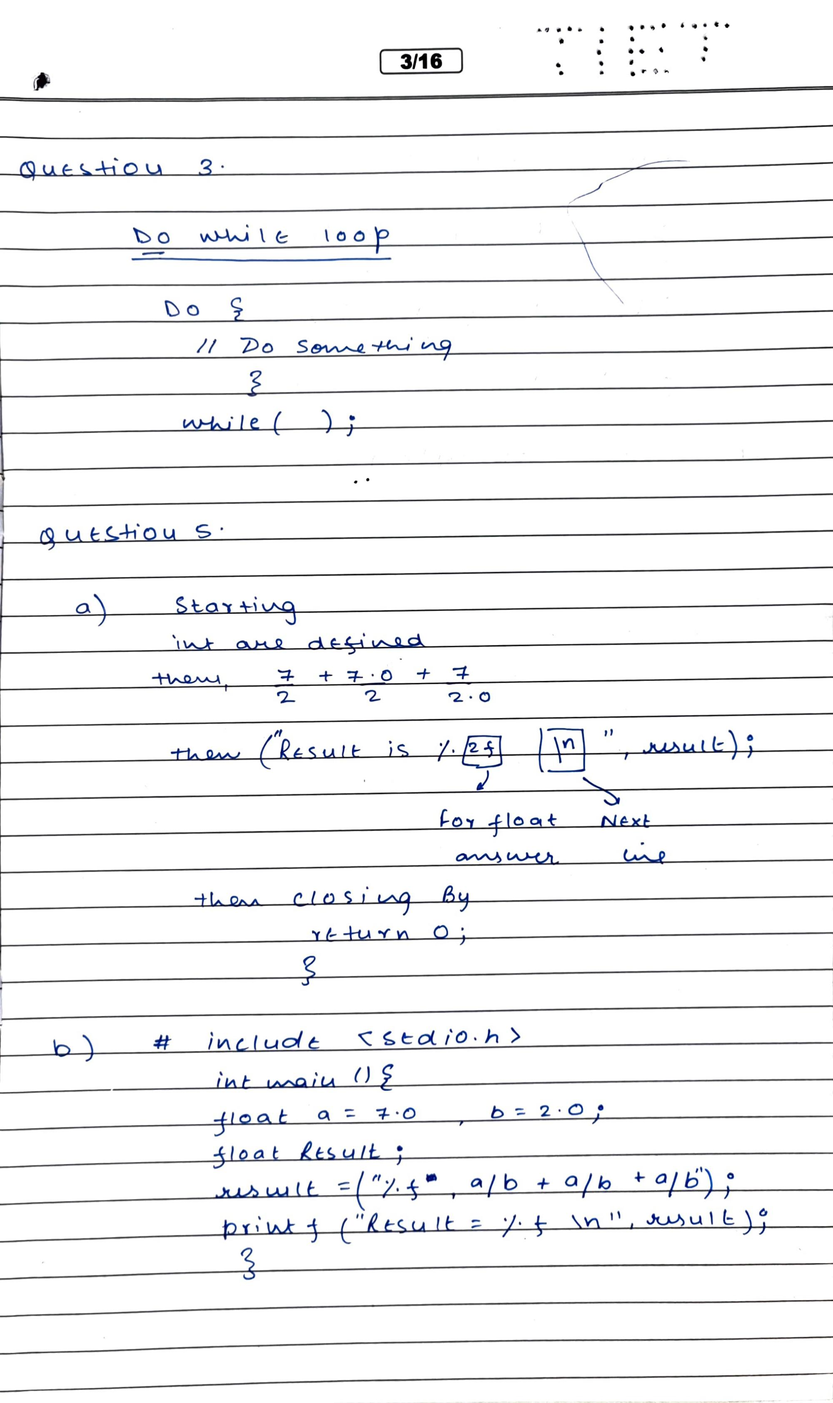cuttings: (425, 1173, 439, 1183)
